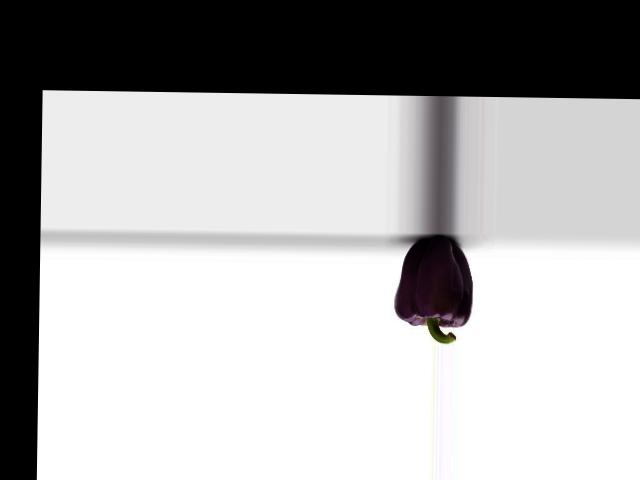bell_pepper: (387, 237, 482, 342)
